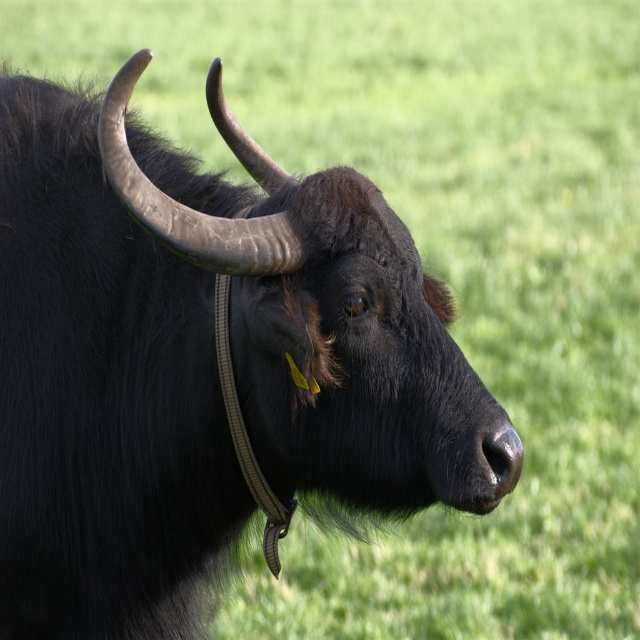Bull: (0, 48, 525, 640)
